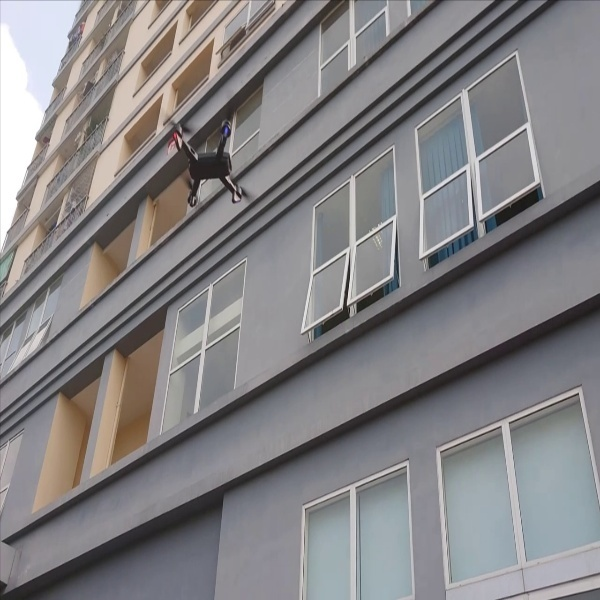drone: (158, 105, 256, 215)
